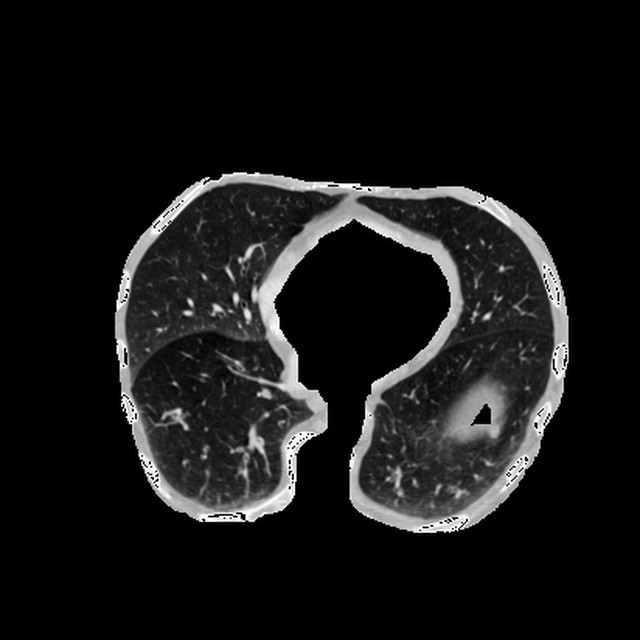PN: (489, 427, 499, 437)
